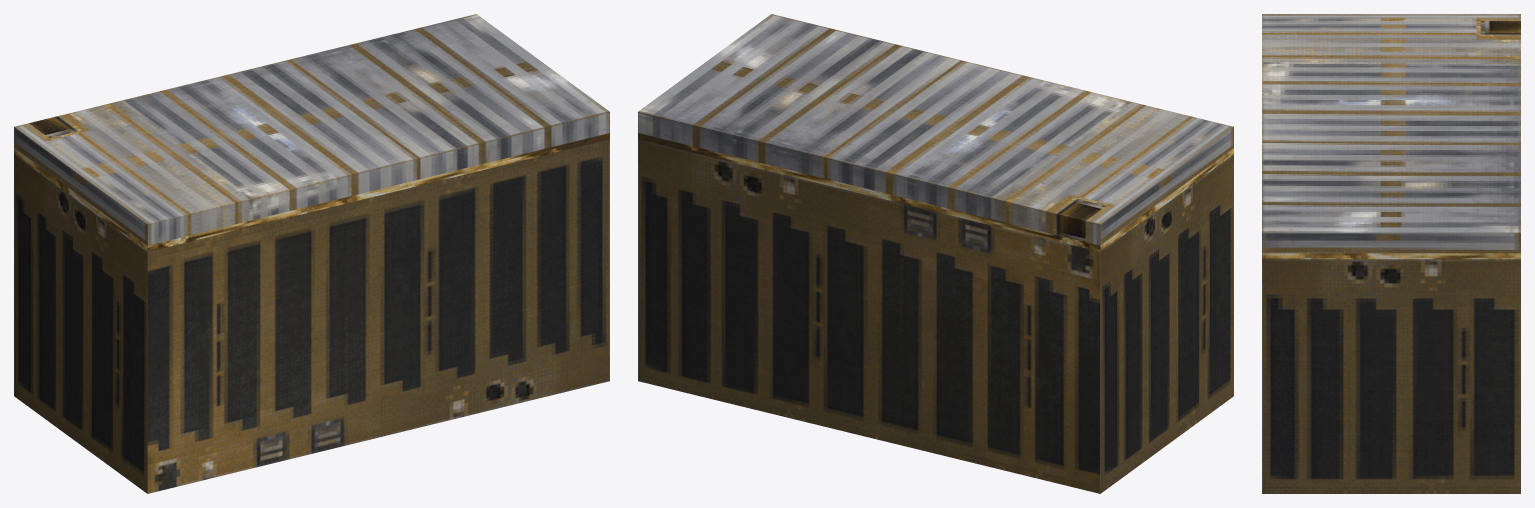
The model's file is SpaceshipPart03.fbx.
3 renders of one model, left to right at view 1: azimuth 30°, elevation 25°; view 2: azimuth 150°, elevation 25°; view 3: azimuth 270°, elevation 25°, orthographic. The views are drawn at different scales.
Parts seen in each view (by area): view 1: SpaceshipPart03; view 2: SpaceshipPart03; view 3: SpaceshipPart03.
Boxes of the visible parts, x1=… form: SpaceshipPart03: x1=14, y1=14, x2=609, y2=493; SpaceshipPart03: x1=638, y1=14, x2=1233, y2=493; SpaceshipPart03: x1=1262, y1=14, x2=1520, y2=493.
Bounding box in the file's own units: 200 × 111 × 100.
